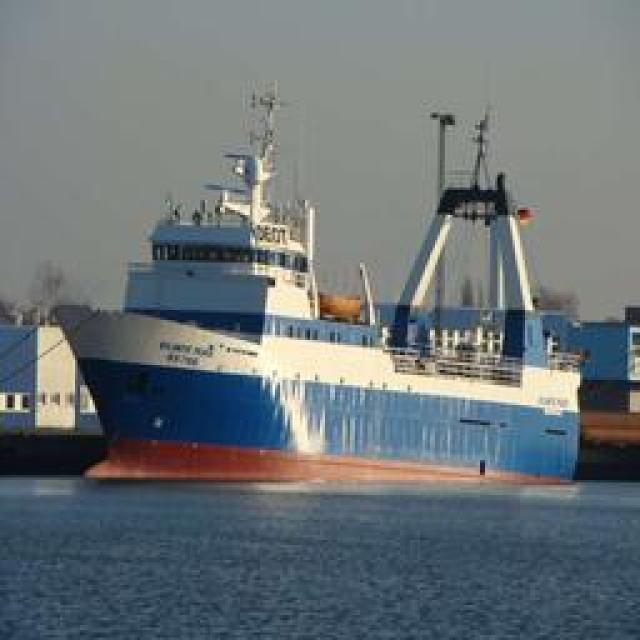CIV_Ship: (55, 88, 593, 480)
